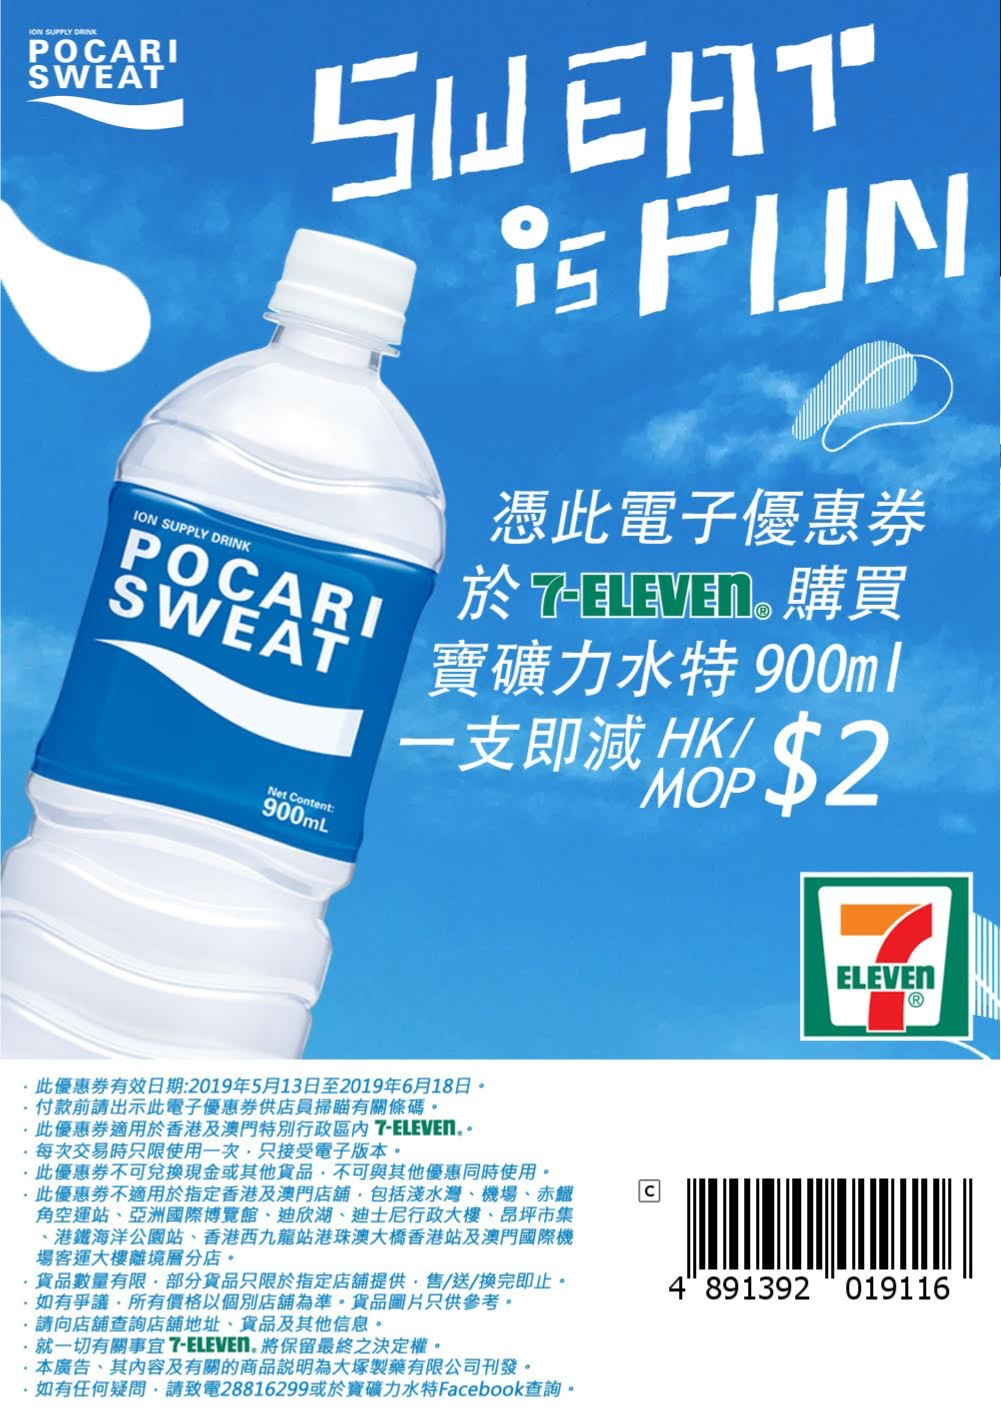POCARI SWEAT: (6, 228, 422, 1068)
